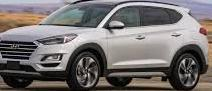SUV: (1, 2, 210, 91)
